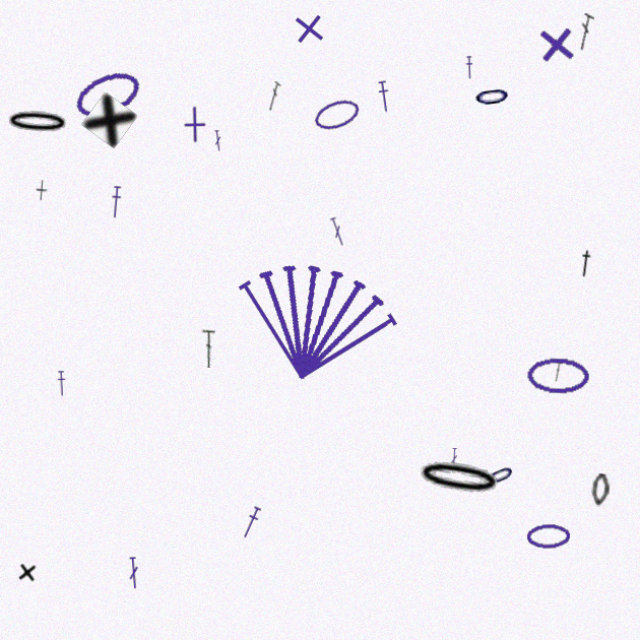chain: (77, 69, 154, 132), (415, 454, 507, 502), (527, 358, 589, 396), (315, 100, 366, 140), (13, 113, 79, 142), (473, 86, 514, 117), (527, 522, 570, 548), (485, 459, 519, 489), (590, 473, 610, 506)
double: (575, 20, 594, 57), (332, 220, 351, 250), (206, 331, 221, 369), (271, 87, 286, 116), (134, 555, 147, 587), (552, 362, 563, 383), (219, 135, 228, 156), (452, 448, 460, 470)
fan: (223, 239, 416, 400)
half_double: (244, 504, 268, 539), (576, 252, 595, 281), (379, 86, 395, 118), (116, 190, 130, 222), (64, 372, 75, 397), (467, 62, 475, 85)
single: (89, 98, 144, 153), (535, 29, 578, 72), (182, 111, 219, 148), (295, 17, 331, 53), (26, 559, 46, 581), (44, 184, 56, 205)
